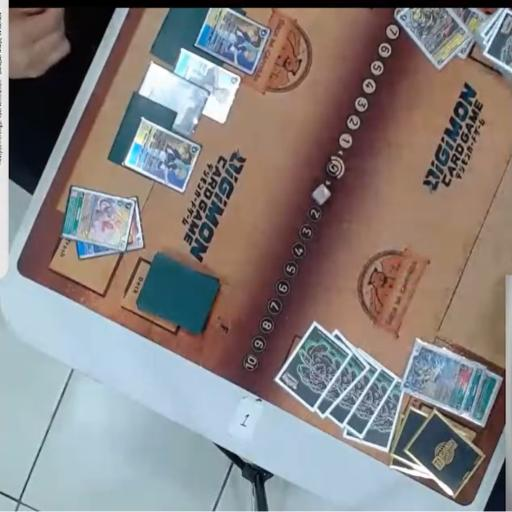card: (132, 61, 209, 139), (126, 120, 204, 194), (192, 6, 270, 75), (174, 46, 241, 124), (395, 0, 468, 70), (401, 338, 467, 412), (82, 198, 148, 259), (62, 197, 134, 250), (445, 0, 487, 64), (466, 375, 504, 425), (460, 366, 490, 416)
